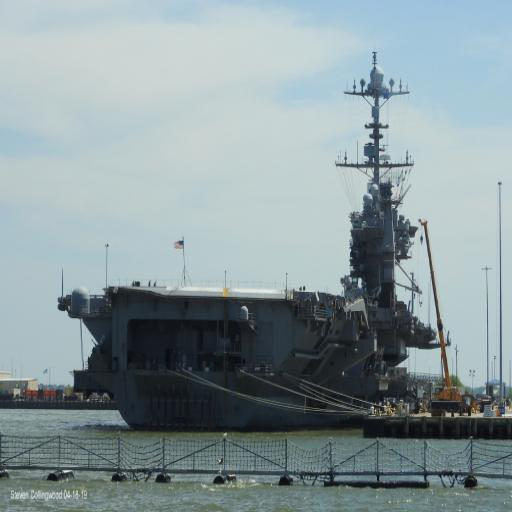Portanaves: (60, 47, 445, 433)
